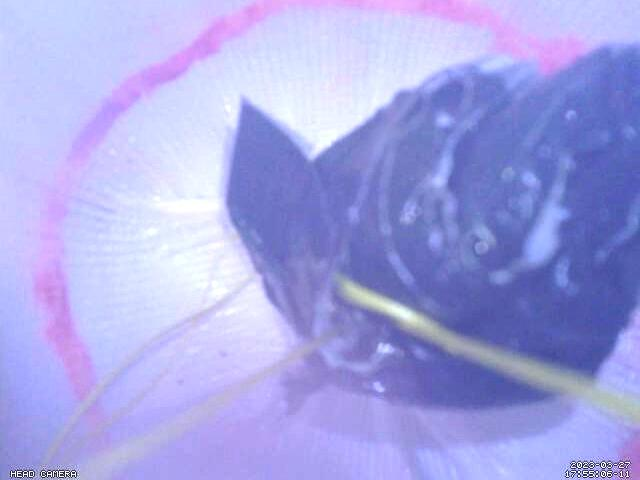head: (33, 0, 640, 480)
